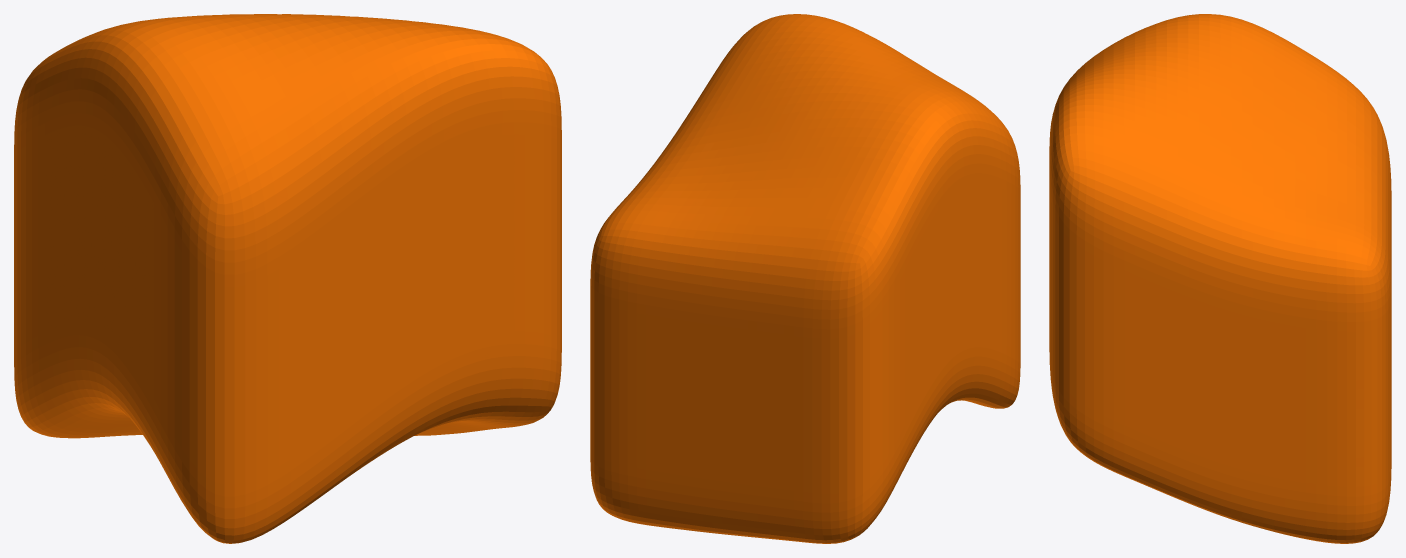
3 renders of one model, left to right at view 1: azimuth 30°, elevation 25°; view 2: azimuth 150°, elevation 25°; view 3: azimuth 270°, elevation 25°, orthographic. The views are drawn at different scales.
Visible parts, largest first — view 1: smooth_1_base.028; view 2: smooth_1_base.028; view 3: smooth_1_base.028.
Part boxes in pixels (x1,y1,x2,y2): smooth_1_base.028: [14, 14, 561, 543]; smooth_1_base.028: [590, 14, 1020, 543]; smooth_1_base.028: [1049, 14, 1391, 543].
Size of the model in its own units: 60 by 80.36 by 60.
